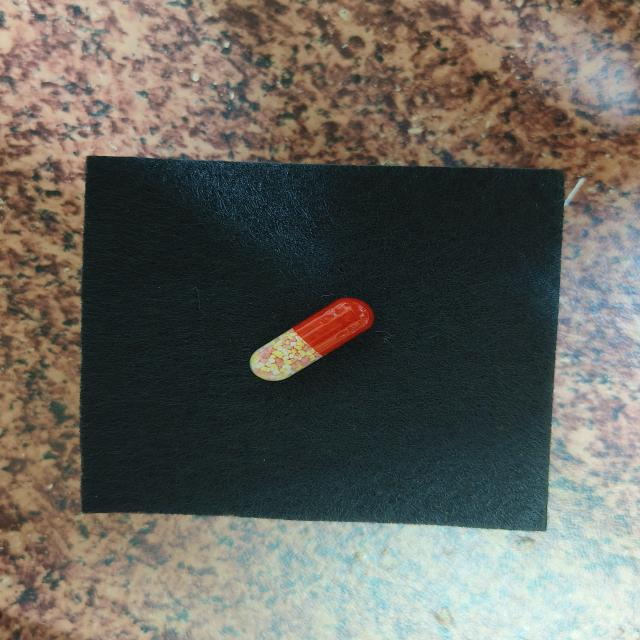Intact Capsule: (249, 297, 374, 381)
